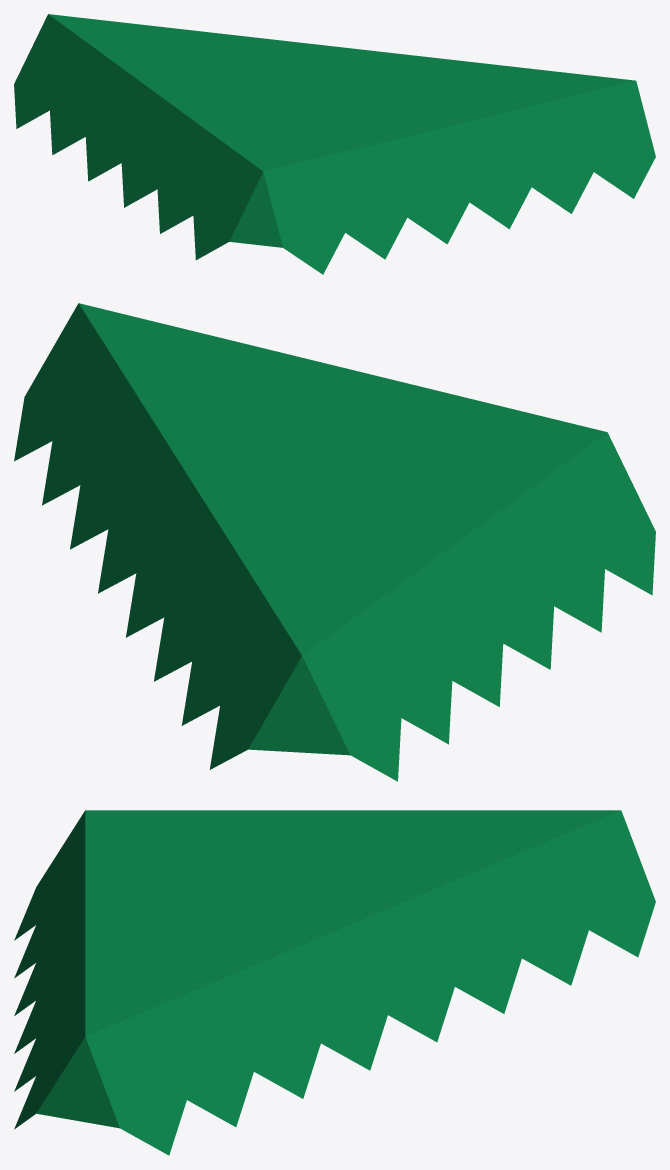
File: groundCornerGrass.glb
The picture shows the model from 3 angles, top to bottom: view 1: azimuth 30°, elevation 25°; view 2: azimuth 150°, elevation 25°; view 3: azimuth 270°, elevation 25°; orthographic projection. The views are drawn at different scales.
Parts seen in each view (by area): view 1: groundCornerGrass; view 2: groundCornerGrass; view 3: groundCornerGrass.
Part boxes in pixels (x1,y1,x2,y2): groundCornerGrass: [14, 14, 655, 274]; groundCornerGrass: [14, 303, 655, 781]; groundCornerGrass: [14, 810, 655, 1155].
Size of the model in its own units: 1.2 by 0.2304 by 1.2.
